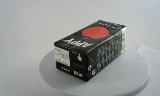appy: (48, 20, 118, 81)
